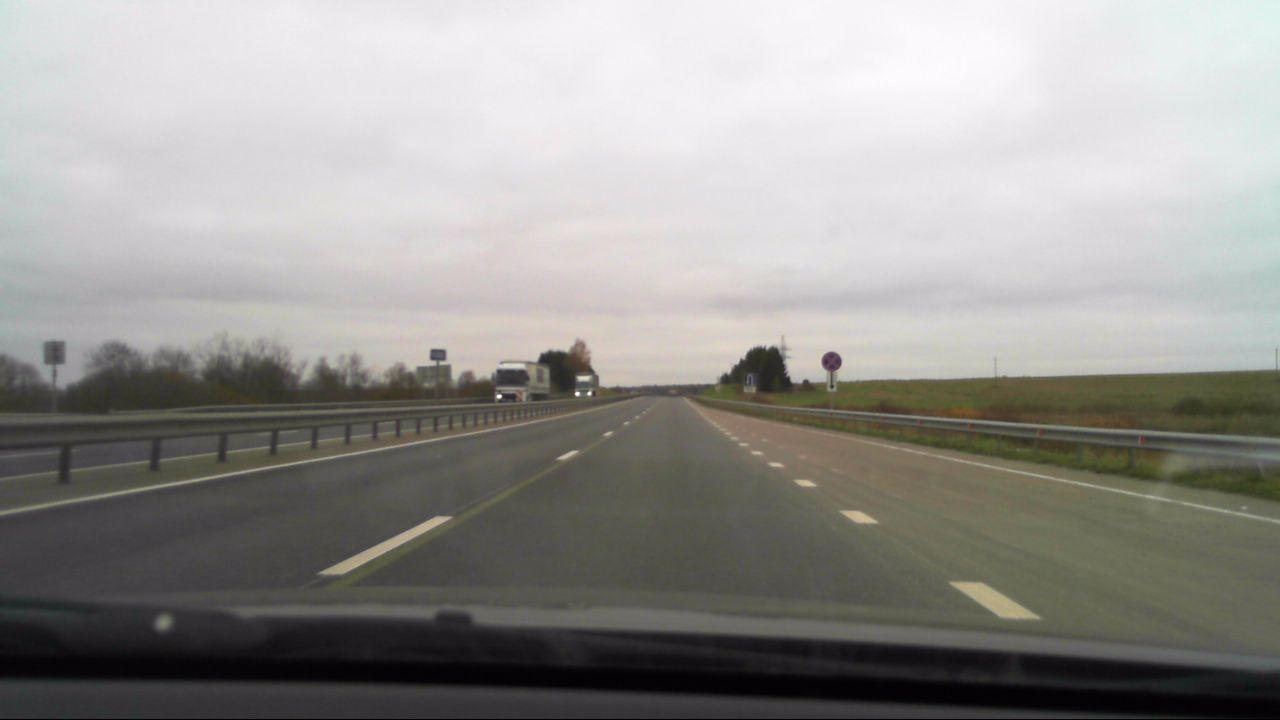3_27: (821, 351, 843, 372)
6_3_1: (745, 371, 757, 386)
8_1_1: (743, 385, 758, 394)
8_2_3: (824, 373, 840, 393)
